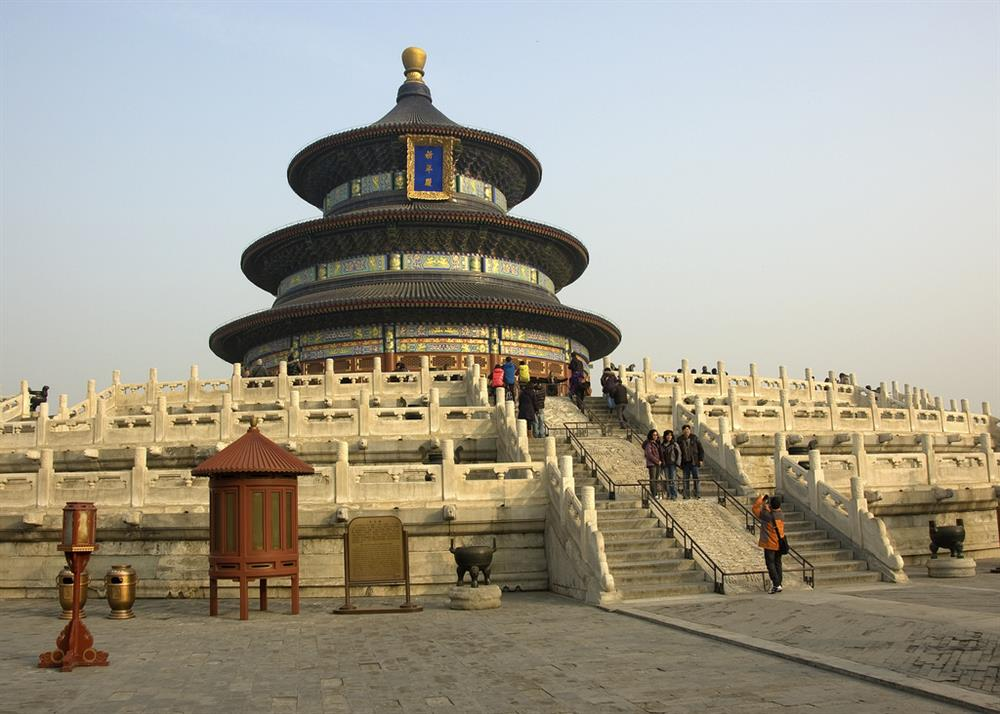Temple_of_Heaven: (207, 43, 620, 384)
